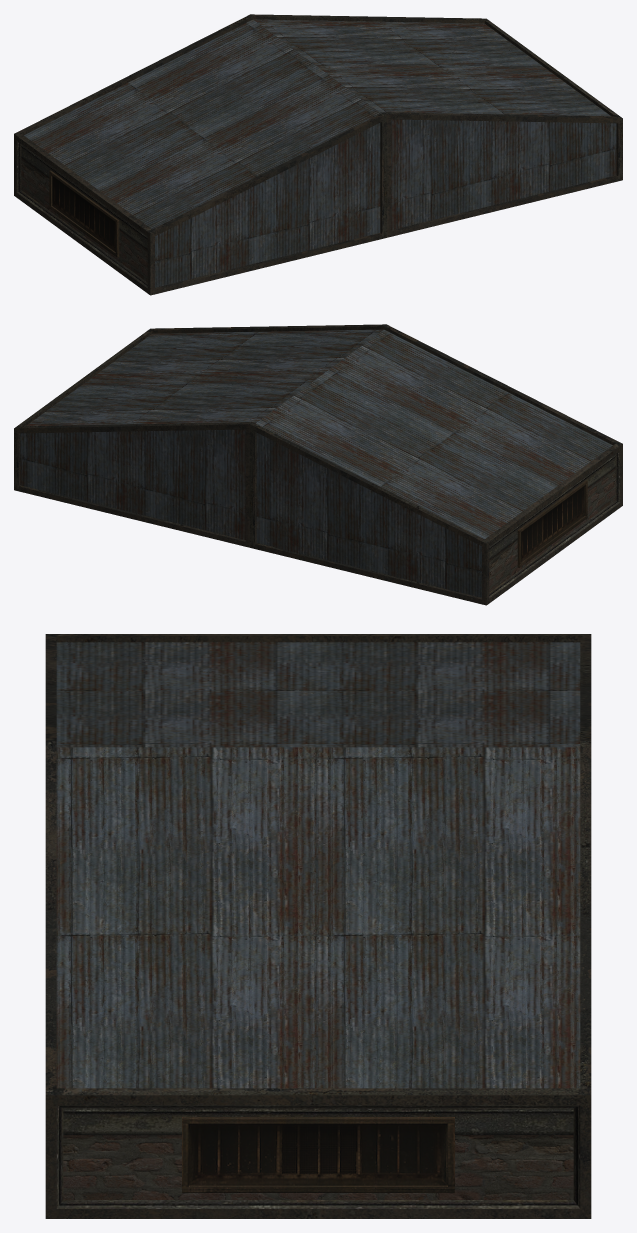
Rendered from roof_mh_4_a_1.dae.
3 views of the same model, one above another, from view 1: azimuth 30°, elevation 25°; view 2: azimuth 150°, elevation 25°; view 3: azimuth 270°, elevation 25° (orthographic). The views are drawn at different scales.
Visible parts, largest first — view 1: roof_mh_4_a_1; view 2: roof_mh_4_a_1; view 3: roof_mh_4_a_1.
Part boxes in pixels (x1,y1,x2,y2): roof_mh_4_a_1: (14,14,622,295); roof_mh_4_a_1: (14,324,622,605); roof_mh_4_a_1: (45,634,591,1218).
Size of the model in its own units: 8 by 4 by 2.
6 materials, 6 textured.
